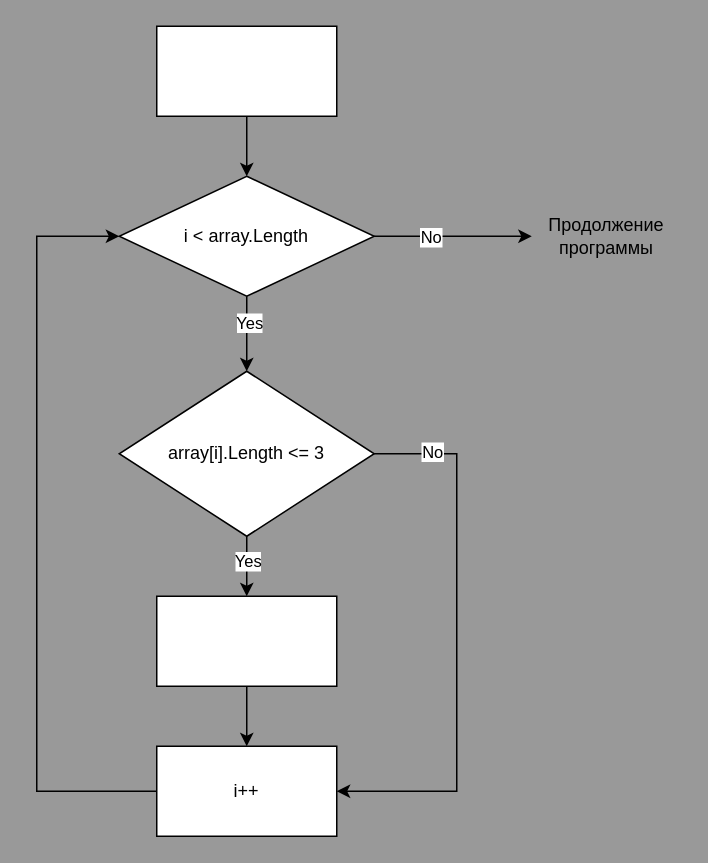
This 708x863 diagram has some shape labels left out. The centre of each missing label's shape, as x and y in pixels:
"arrayNew[j] = array[i] j++" belongs at point 246,640.
"i = 0 j = 0" belongs at point 246,70.
